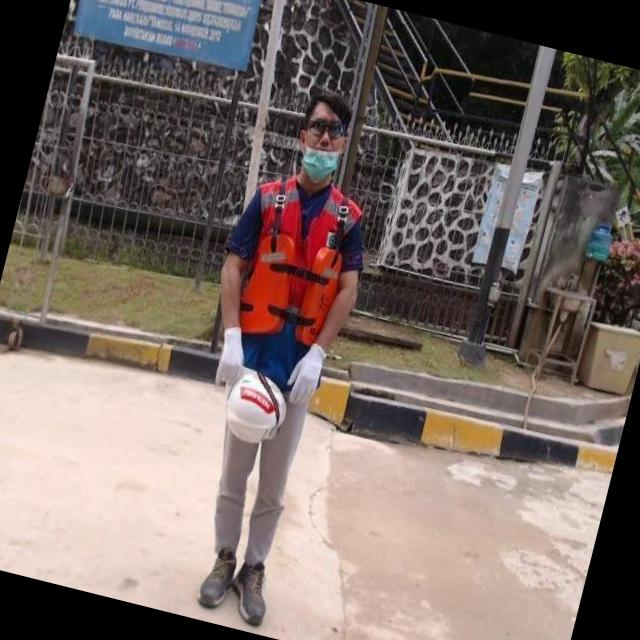hard_hat: (209, 361, 300, 456)
safety_vest: (218, 162, 379, 369)
vehicle: (103, 52, 449, 640)
work_boots: (221, 552, 283, 634), (192, 544, 242, 614)
